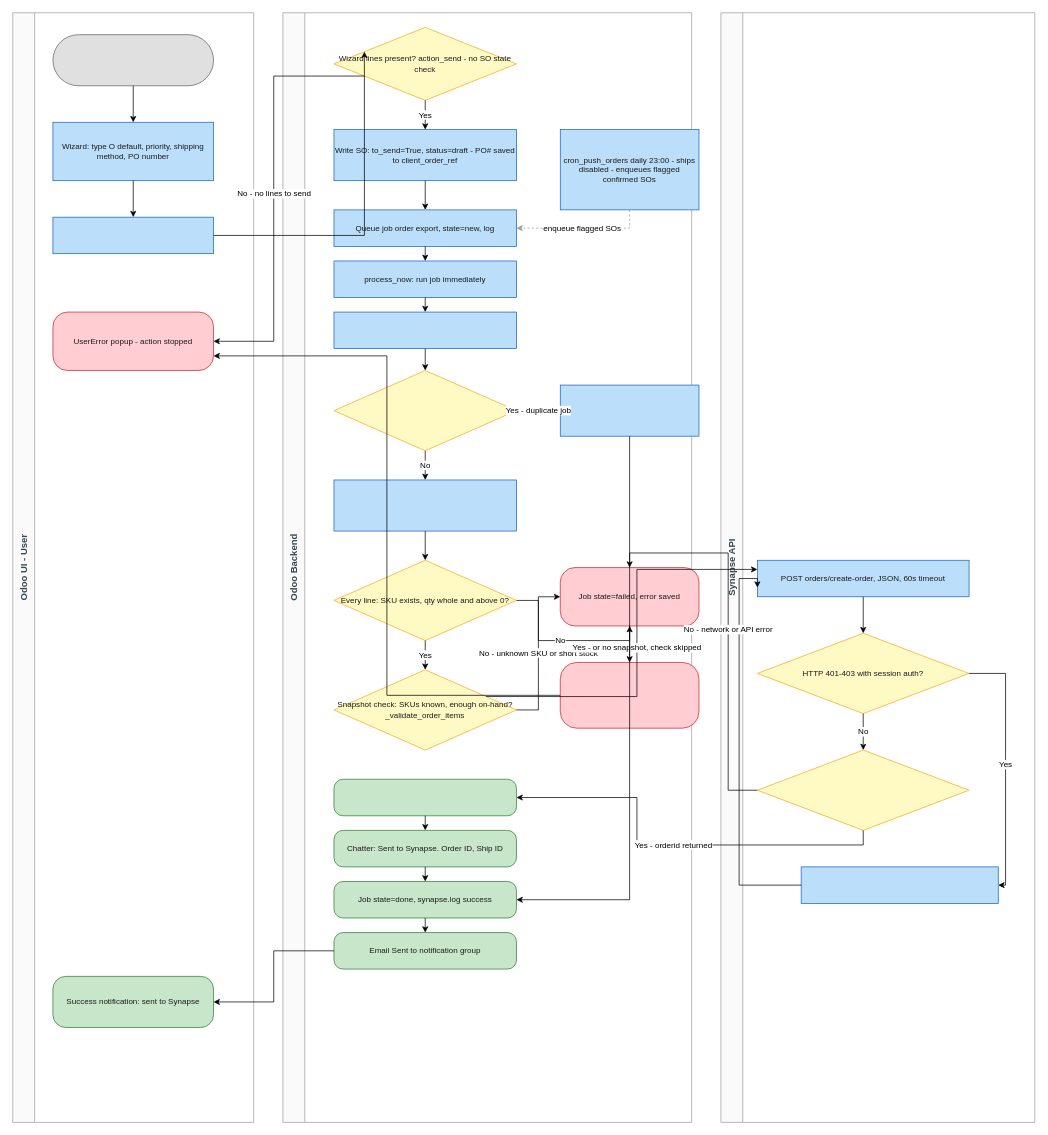
This 1048x1135 diagram has some shape labels left out. The centre of each missing label's shape, as x and y in pixels:
"Build payload: customer ship-to, from_facility, carrier and service codes" belongs at [424,505].
"Job state=progress, attempts+1, commit" belongs at [424,330].
"Re-login once, retry request" belongs at [899,884].
"Response OK?" belongs at [863,789].
"Skip create-order, return stored ids" belongs at [629,410].
"SO status=failed, chatter FAILED, email Failed" belongs at [629,695].
"synapse_orderid already set? idempotency guard" belongs at [424,410].
"User clicks Send in wizard" belongs at [133,235].
"User clicks Send to Synapse on SO - hidden once orderid set" belongs at [133,60].
"Write orderid shipid wave - status sent, commit" belongs at [424,797].
